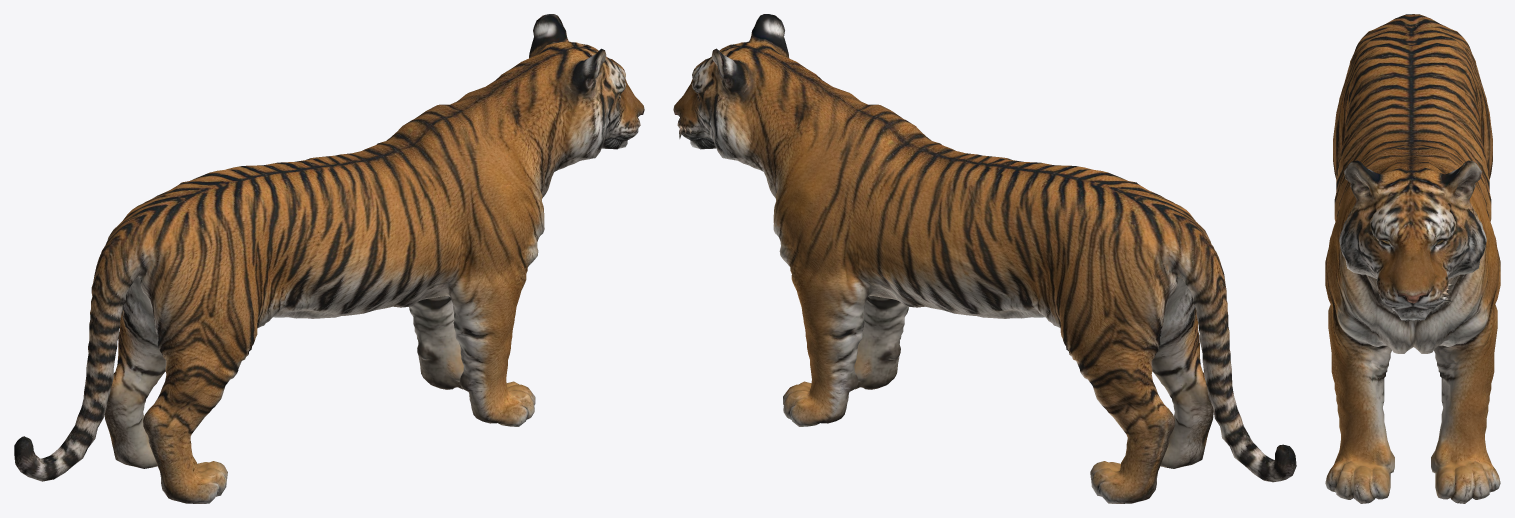
The picture shows the model from 3 angles, left to right: view 1: azimuth 30°, elevation 25°; view 2: azimuth 150°, elevation 25°; view 3: azimuth 270°, elevation 25°; orthographic projection. The views are drawn at different scales.
Visible parts, largest first — view 1: tripo_node_e7126733-eb3e-40c2-a21a-3908cbb51b4e_0; view 2: tripo_node_e7126733-eb3e-40c2-a21a-3908cbb51b4e_0; view 3: tripo_node_e7126733-eb3e-40c2-a21a-3908cbb51b4e_0.
Part boxes in pixels (box(x1,y1,x2,y2)): tripo_node_e7126733-eb3e-40c2-a21a-3908cbb51b4e_0: box(14, 14, 644, 503); tripo_node_e7126733-eb3e-40c2-a21a-3908cbb51b4e_0: box(673, 14, 1296, 503); tripo_node_e7126733-eb3e-40c2-a21a-3908cbb51b4e_0: box(1325, 14, 1500, 503).
Bounding box in the file's own units: 0.9788 × 0.5248 × 0.2164.
Materials: 1 (1 with a texture image).
